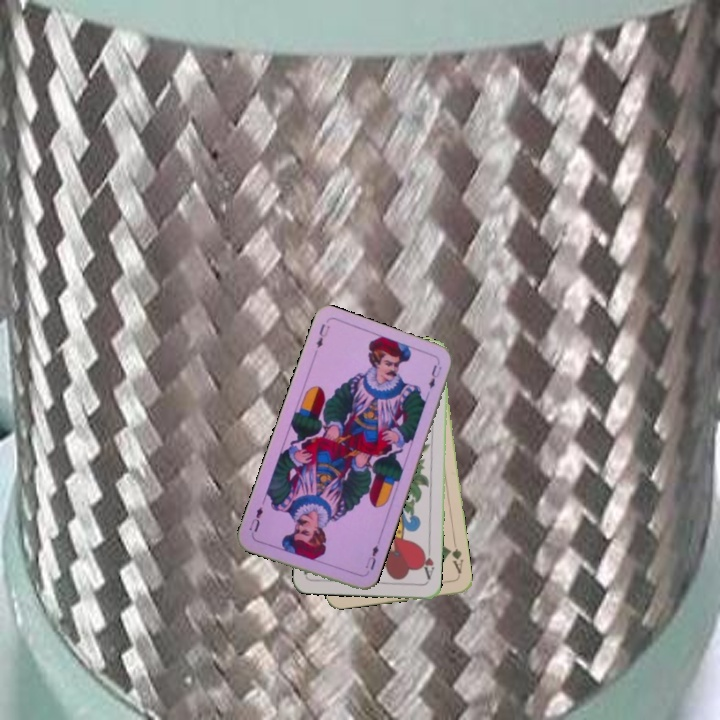EU: (312, 320, 333, 351), (361, 541, 381, 572)
GA: (444, 538, 466, 578)
HA: (418, 543, 437, 582)
